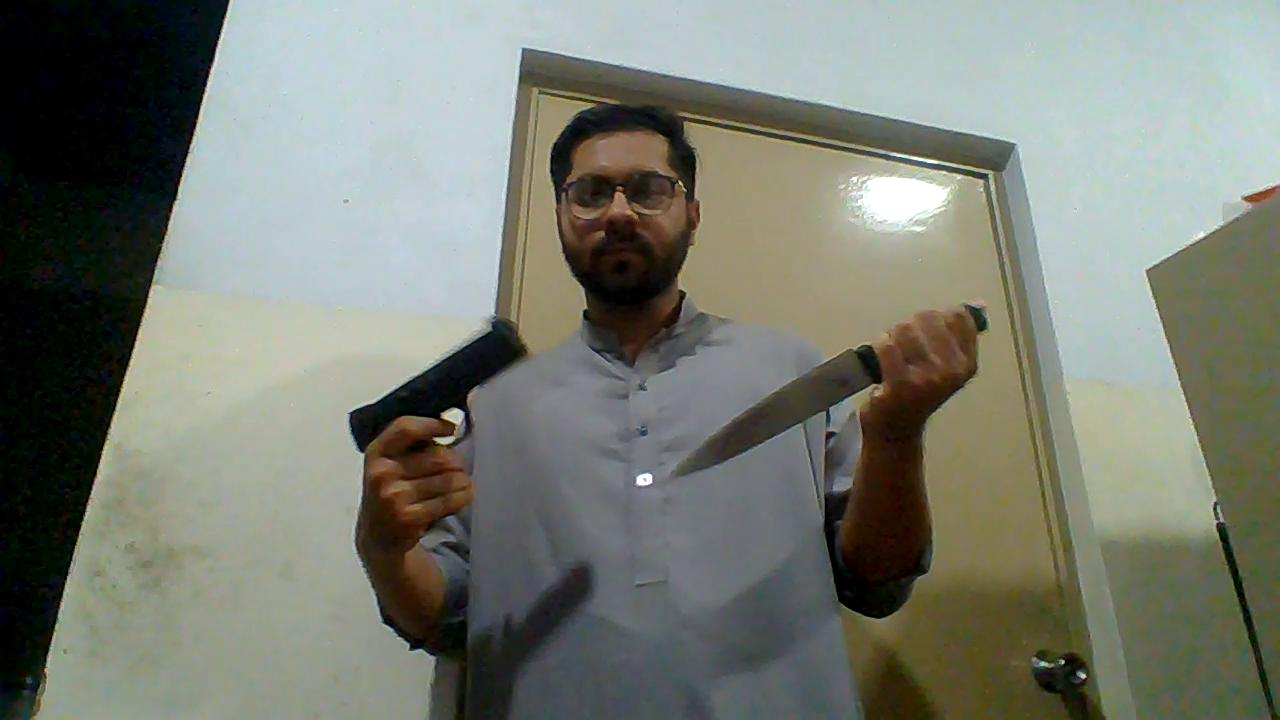criminal: (344, 102, 989, 720)
weapon: (669, 343, 886, 483), (344, 317, 532, 455)
